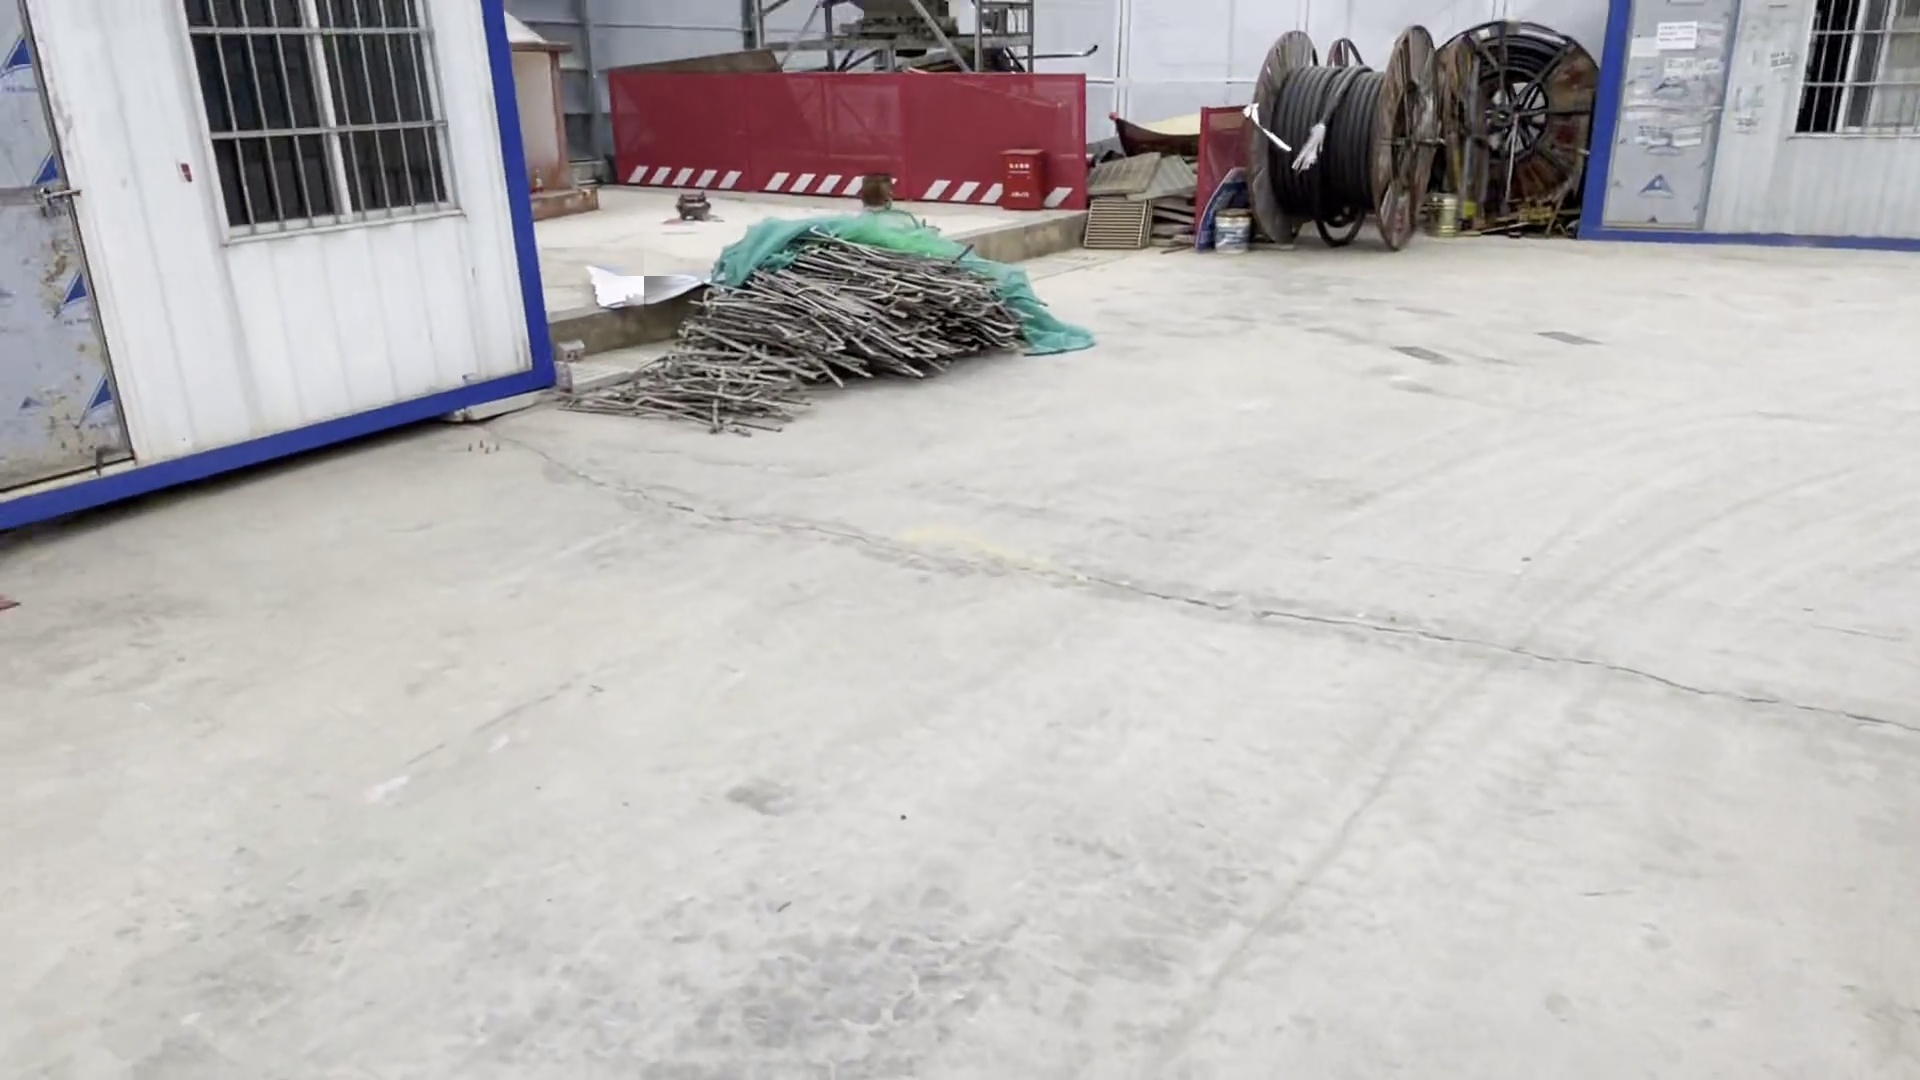fence: (591, 55, 1097, 218)
